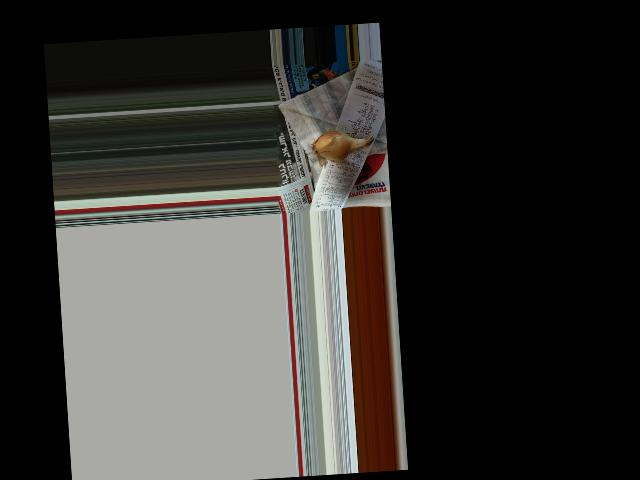onion: (316, 129, 359, 159)
